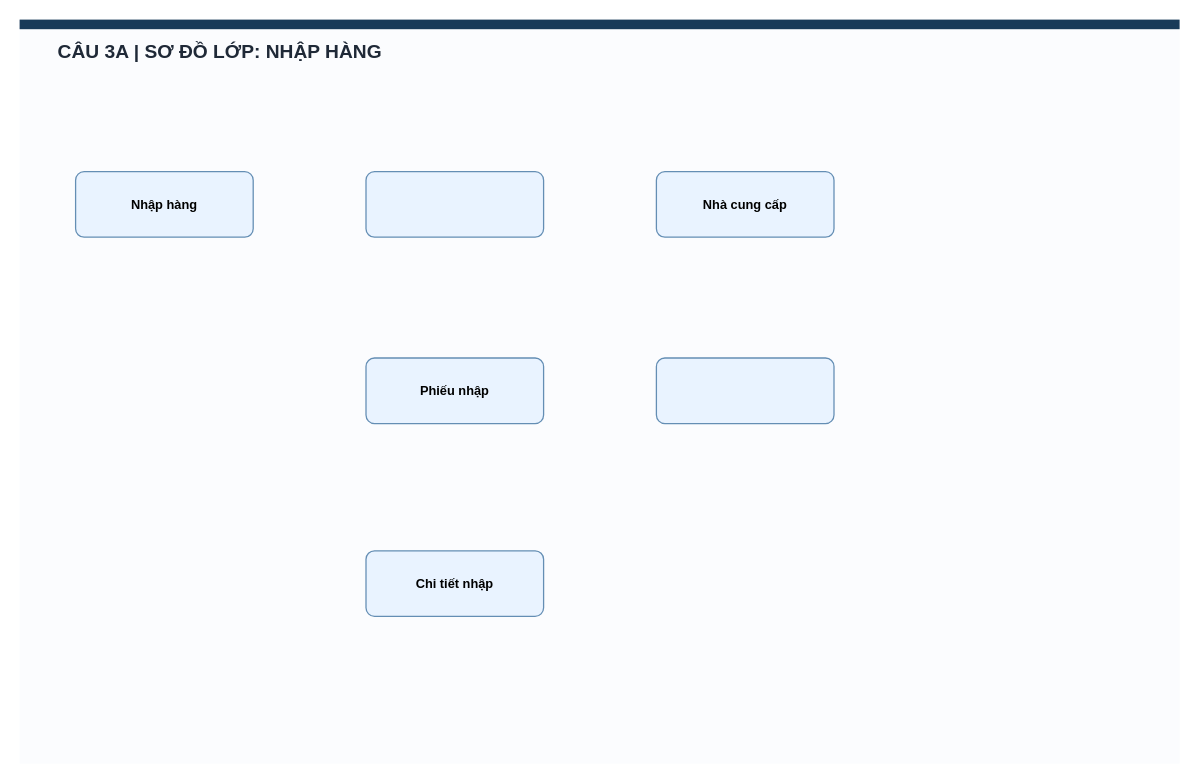
The diagram is 1194 pixels wide and 778 high, and some of its shapes have lost their labels. Here are the shapes that lost their labels. From the top down, the box of each, then its label:
(365, 171, 544, 237): Mặt hàng
(655, 357, 834, 424): Kho
